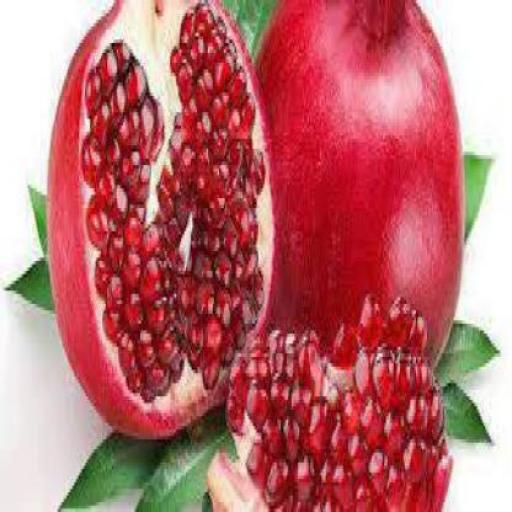biodegradable: (47, 0, 273, 437), (251, 0, 462, 370), (227, 290, 449, 508), (134, 410, 232, 508), (55, 430, 167, 508), (433, 320, 497, 380), (204, 446, 264, 509), (439, 380, 491, 446), (460, 149, 492, 241), (6, 254, 51, 311), (213, 0, 269, 43), (27, 182, 46, 254)
